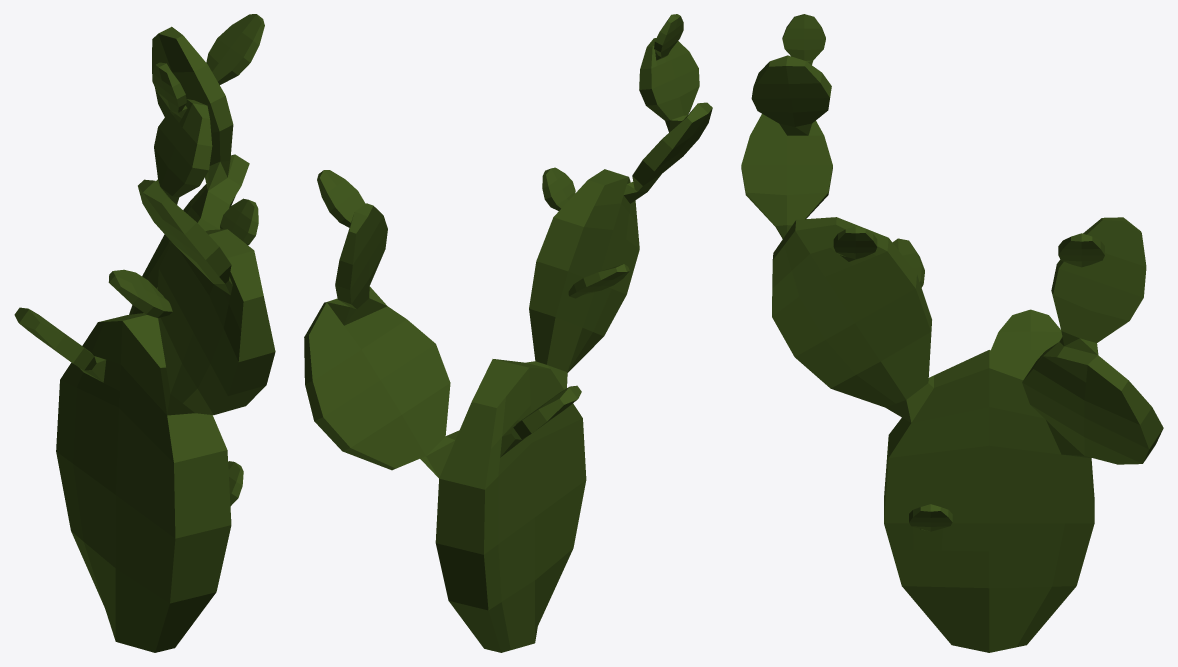
File: OpuntiaCactus.fbx
3 views of the same model, side by side, from view 1: azimuth 30°, elevation 25°; view 2: azimuth 150°, elevation 25°; view 3: azimuth 270°, elevation 25° (orthographic). The views are drawn at different scales.
Visible parts, largest first — view 1: Cube.001; view 2: Cube.001; view 3: Cube.001.
Boxes of the visible parts, x1,y1,x2,y2 form: Cube.001: (14,14,275,652); Cube.001: (304,14,712,652); Cube.001: (741,14,1163,652).
Bounding box in the file's own units: 35.99 × 80.05 × 51.93.
